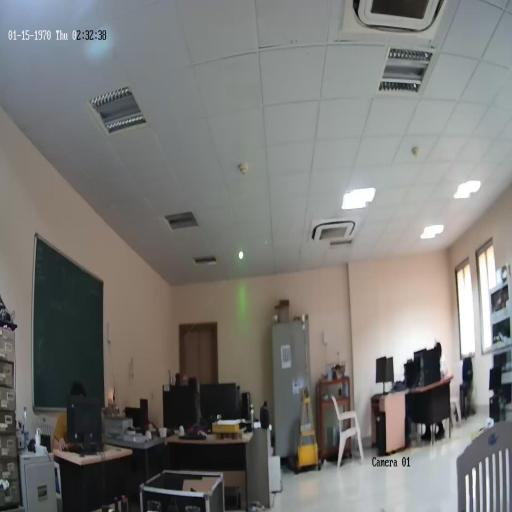laser: (238, 248, 244, 262)
